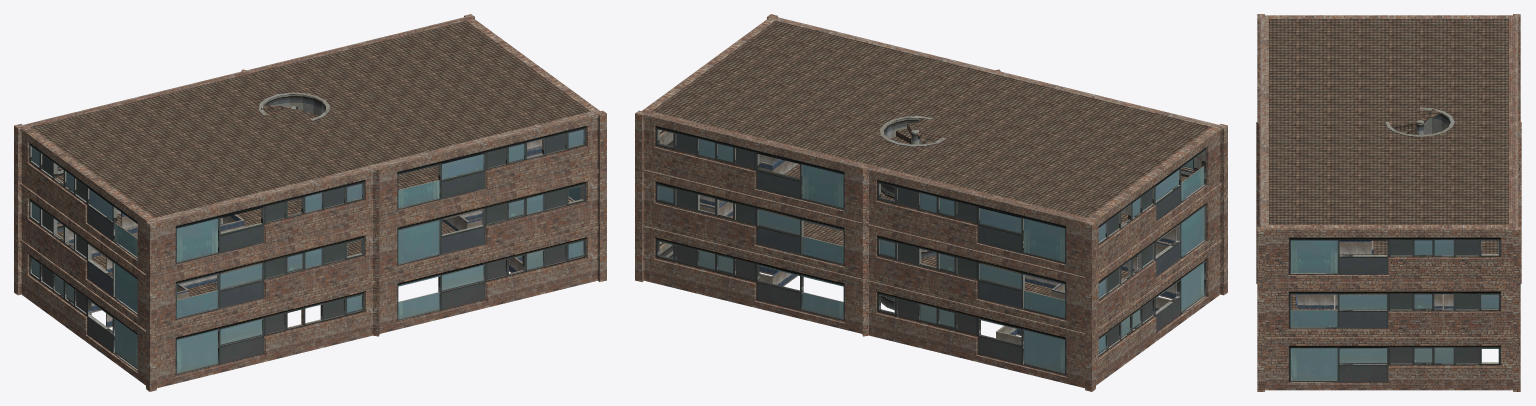
File: BagSS11mid_high.fbx
The picture shows the model from 3 angles, left to right: view 1: azimuth 30°, elevation 25°; view 2: azimuth 150°, elevation 25°; view 3: azimuth 270°, elevation 25°; orthographic projection. The views are drawn at different scales.
Parts seen in each view (by area): view 1: midMain700, midFloor700, midWallTrim700, midWalls700, midWallcrete700; view 2: midMain700, midFloor700, midWallTrim700, midWalls700, midWallcrete700, midStairs700; view 3: midFloor700, midMain700, midWalls700, midWallcrete700, midWallTrim700, midStairs700.
Part boxes in pixels (x1,y1,x2,y2): midMain700: [14, 14, 606, 391]; midFloor700: [31, 21, 589, 296]; midWallTrim700: [30, 129, 584, 375]; midWalls700: [68, 139, 541, 327]; midWallcrete700: [31, 21, 589, 232]; midMain700: [635, 14, 1227, 391]; midFloor700: [652, 21, 1210, 296]; midWallTrim700: [657, 129, 1205, 375]; midWalls700: [700, 154, 1176, 344]; midWallcrete700: [652, 21, 1210, 310]; midStairs700: [890, 118, 941, 144]; midFloor700: [1269, 19, 1508, 309]; midMain700: [1256, 14, 1521, 391]; midWalls700: [1296, 240, 1481, 361]; midWallcrete700: [1269, 19, 1508, 136]; midWallTrim700: [1290, 254, 1498, 382]; midStairs700: [1389, 109, 1441, 134].
Size of the model in its own units: 169 by 59.05 by 87.6.
